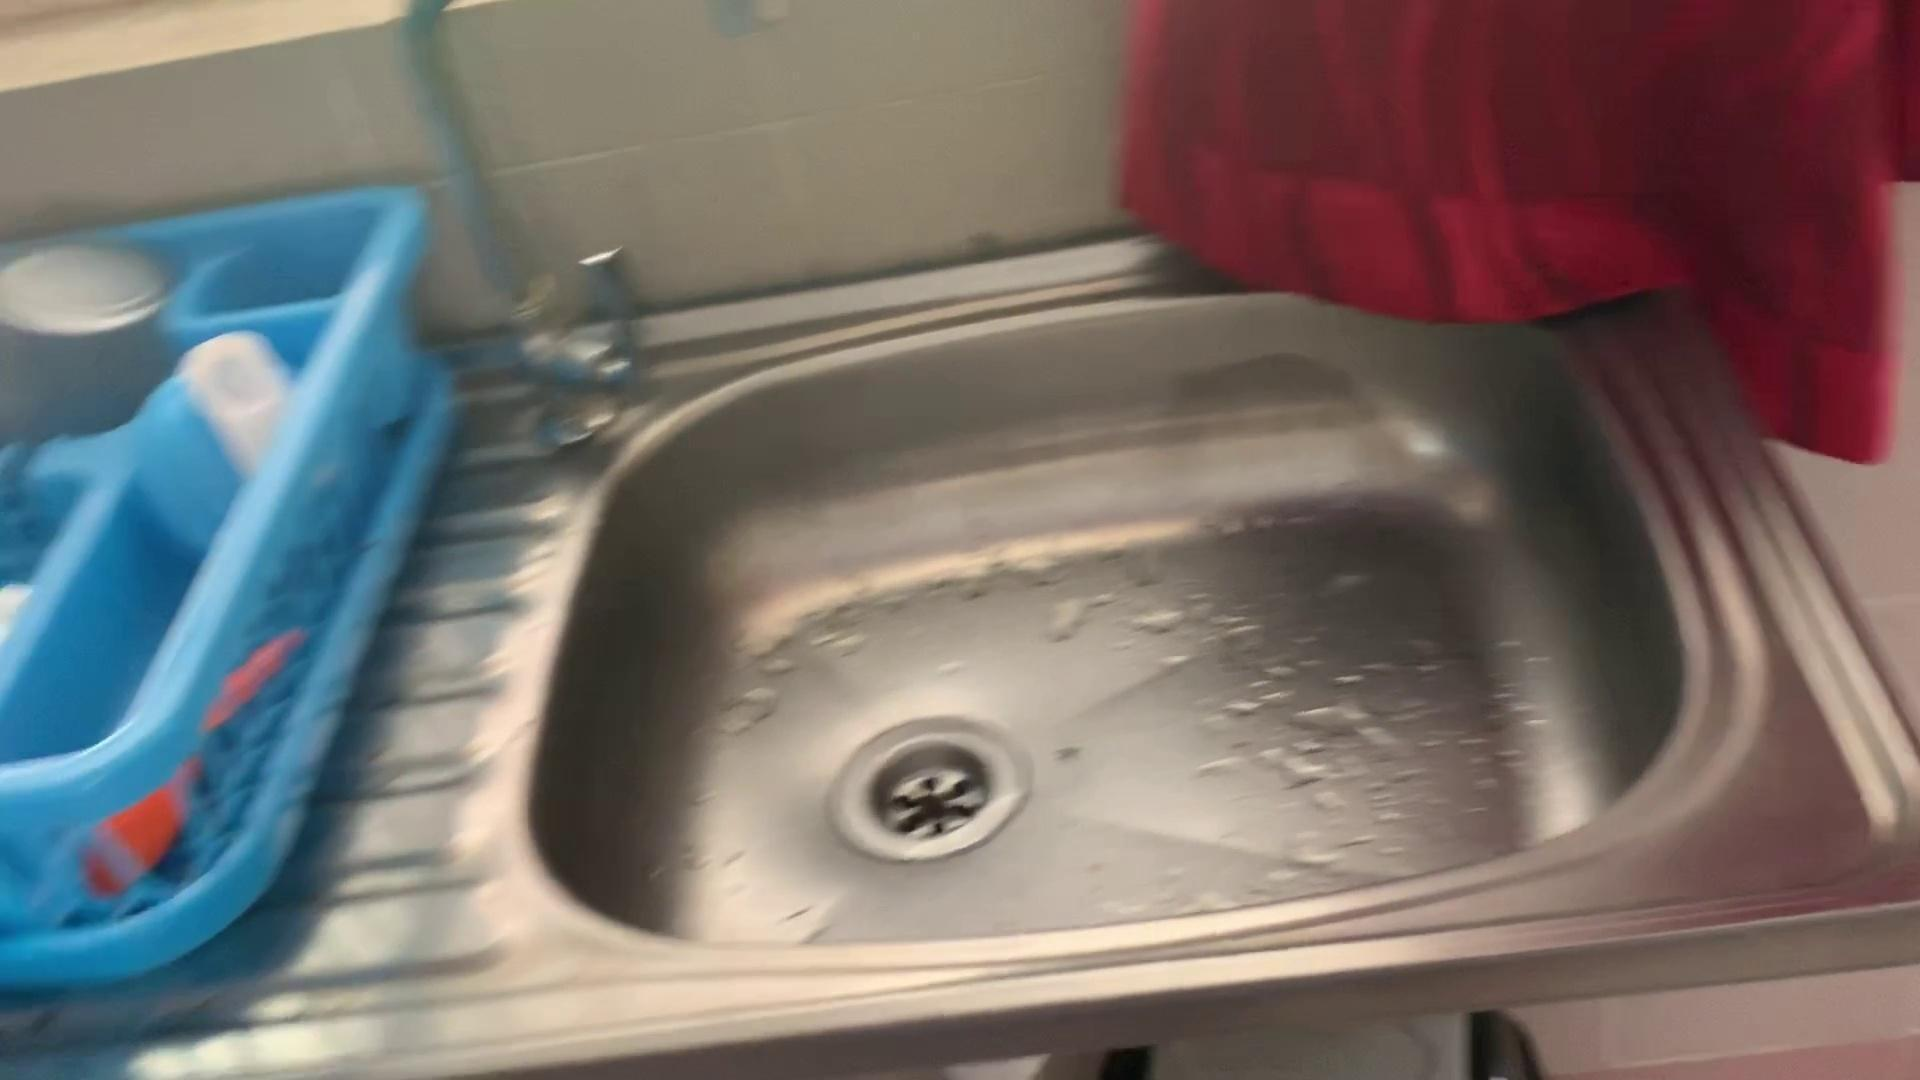Lavaplatos: (535, 156, 1815, 1043)
